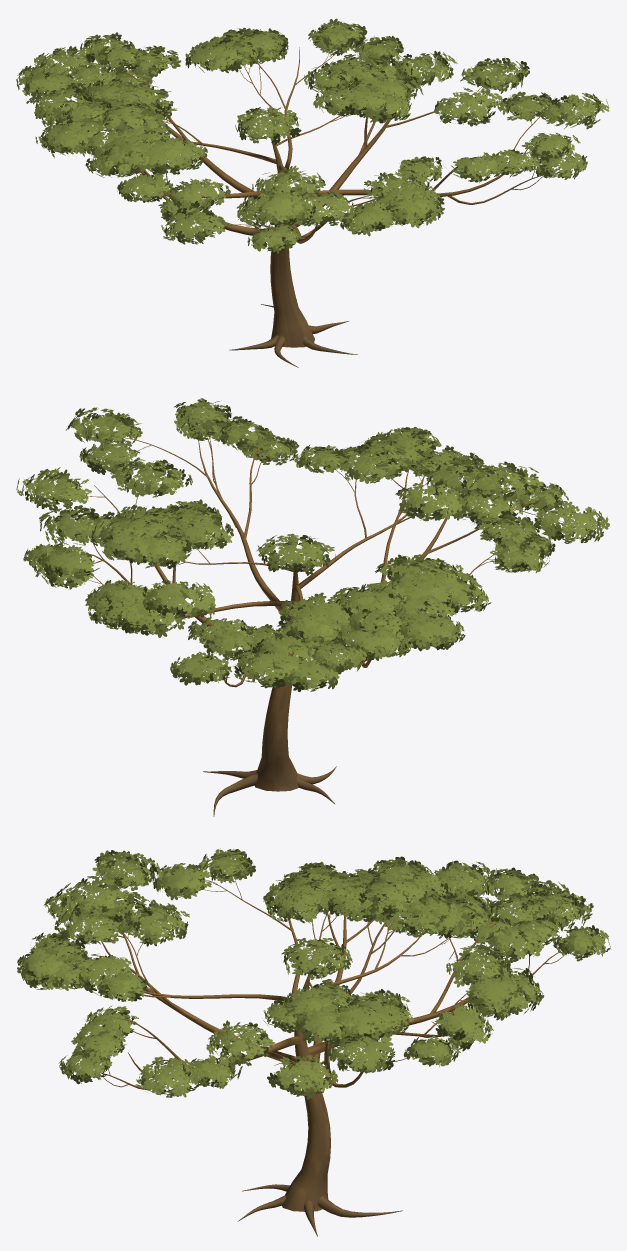
Rendered from tree.gltf.
The picture shows the model from 3 angles, top to bottom: view 1: azimuth 30°, elevation 25°; view 2: azimuth 150°, elevation 25°; view 3: azimuth 270°, elevation 25°; orthographic projection. The views are drawn at different scales.
Parts seen in each view (by area): view 1: Tree_LOD0; view 2: Tree_LOD0; view 3: Tree_LOD0.
Part boxes in pixels (x1,y1,x2,y2): Tree_LOD0: (16, 18, 609, 367); Tree_LOD0: (16, 398, 609, 816); Tree_LOD0: (17, 848, 611, 1236).
Size of the model in its own units: 29.75 by 14.86 by 30.52.
Materials: 2 (2 with a texture image).
